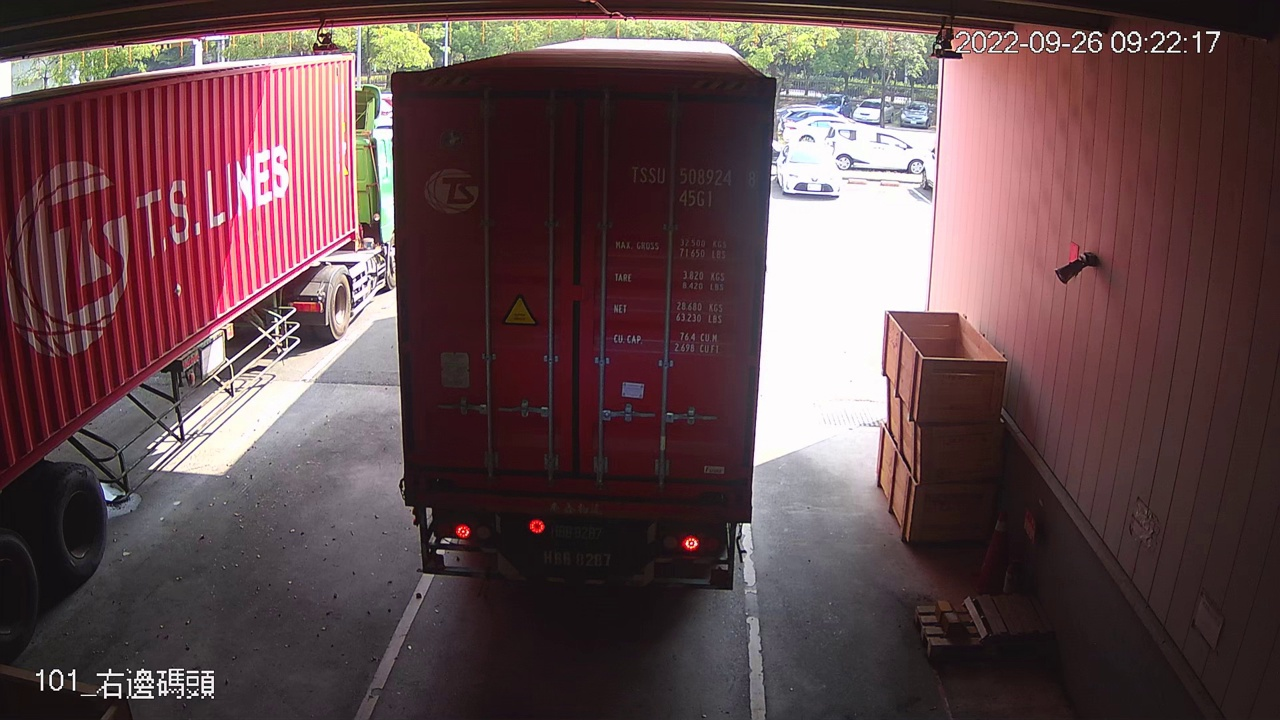container: (622, 160, 762, 214)
